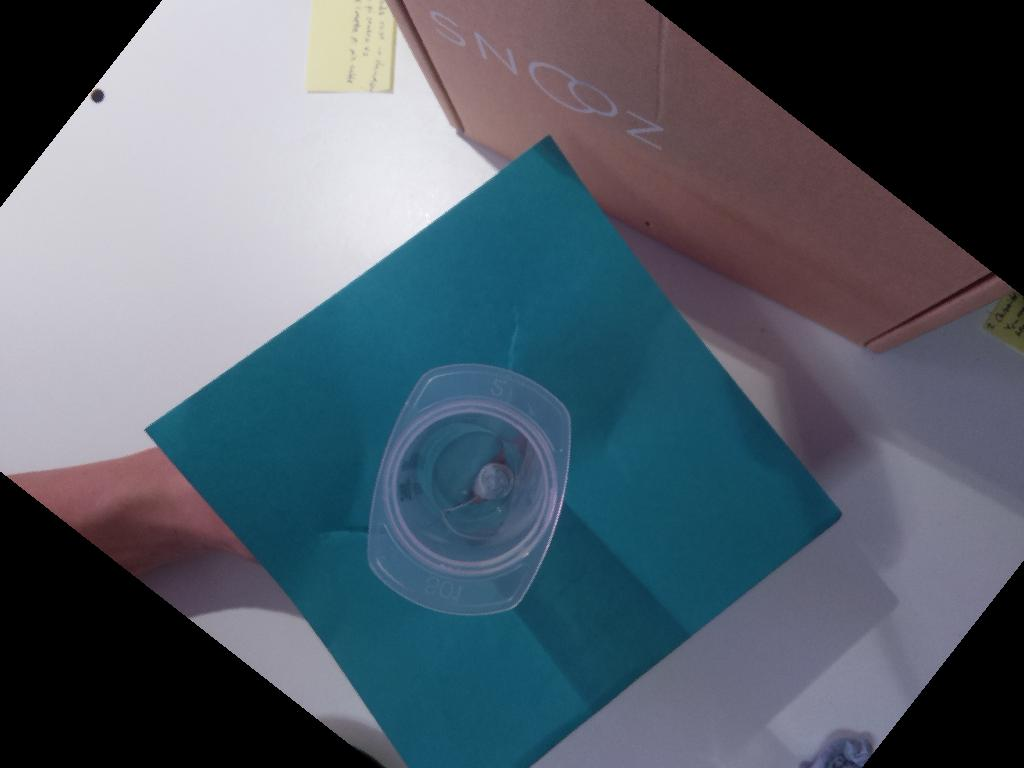clean: (367, 364, 572, 618)
